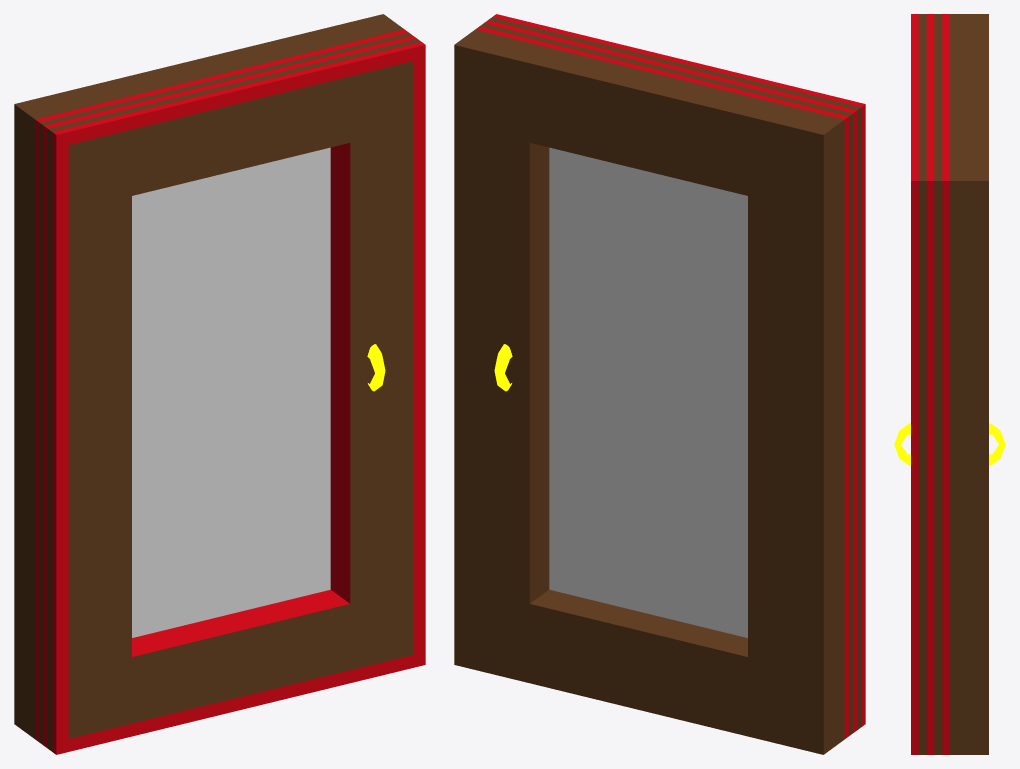
The model's file is Door.fbx.
The picture shows the model from 3 angles, left to right: view 1: azimuth 30°, elevation 25°; view 2: azimuth 150°, elevation 25°; view 3: azimuth 270°, elevation 25°; orthographic projection. The views are drawn at different scales.
Parts seen in each view (by area): view 1: Door; view 2: Door; view 3: Door.
Boxes of the visible parts, box(x1,y1,x2,y2) form: Door: box(14, 14, 425, 754); Door: box(454, 14, 865, 754); Door: box(894, 14, 1005, 754).
Size of the model in its own units: 390 by 626 by 110.
